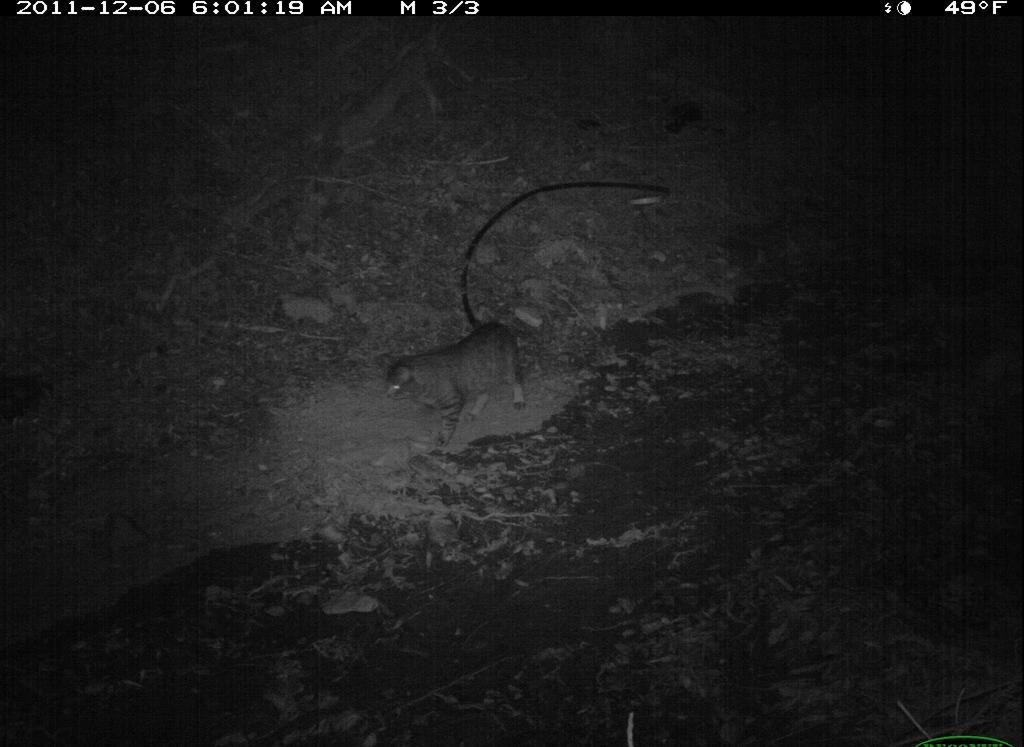cat: (379, 313, 537, 457)
